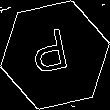P_S: (32, 26, 78, 84)
